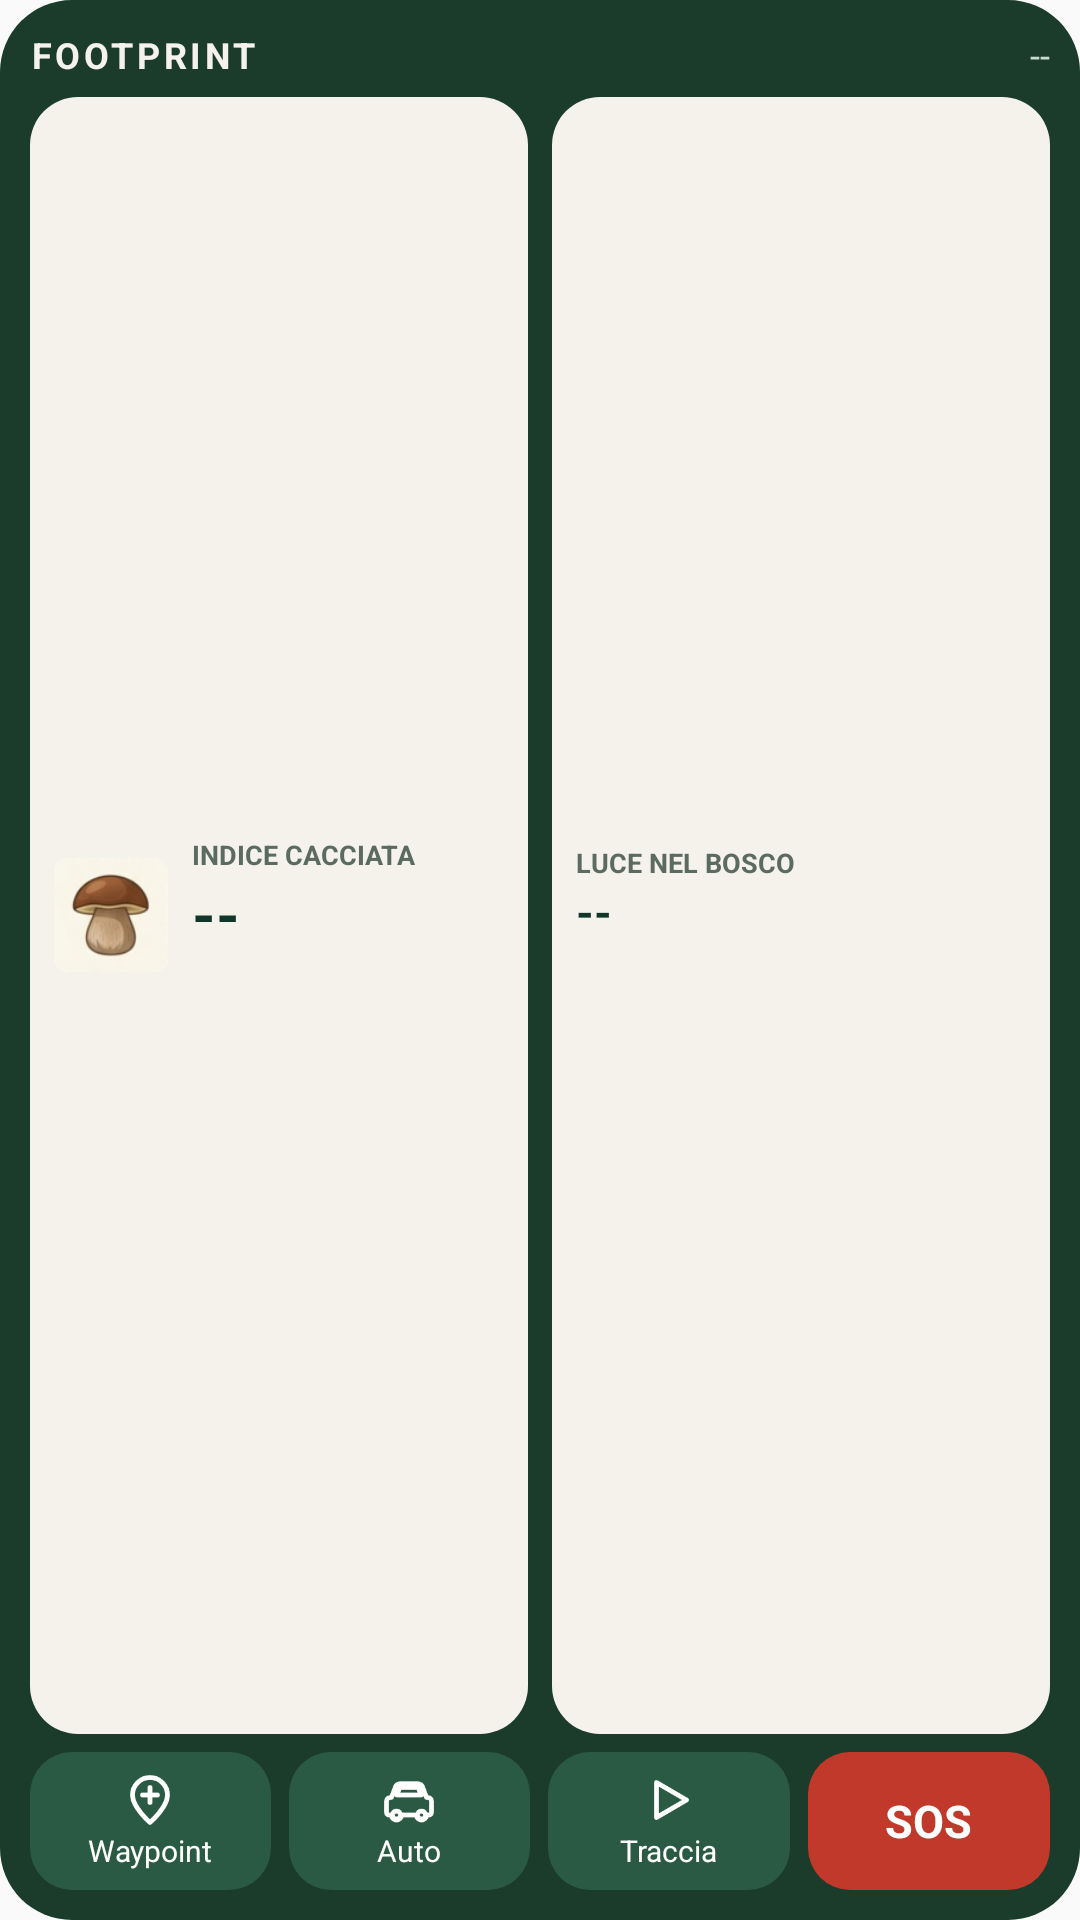

Named icons in this screenshot (1080w x 1920h) and their centers, (x=x, y=y):
pin: (x=150, y=1800)
play: (x=671, y=1800)
porcino: (x=110, y=915)
